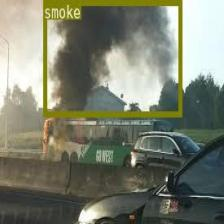smoke: (43, 0, 181, 115)
